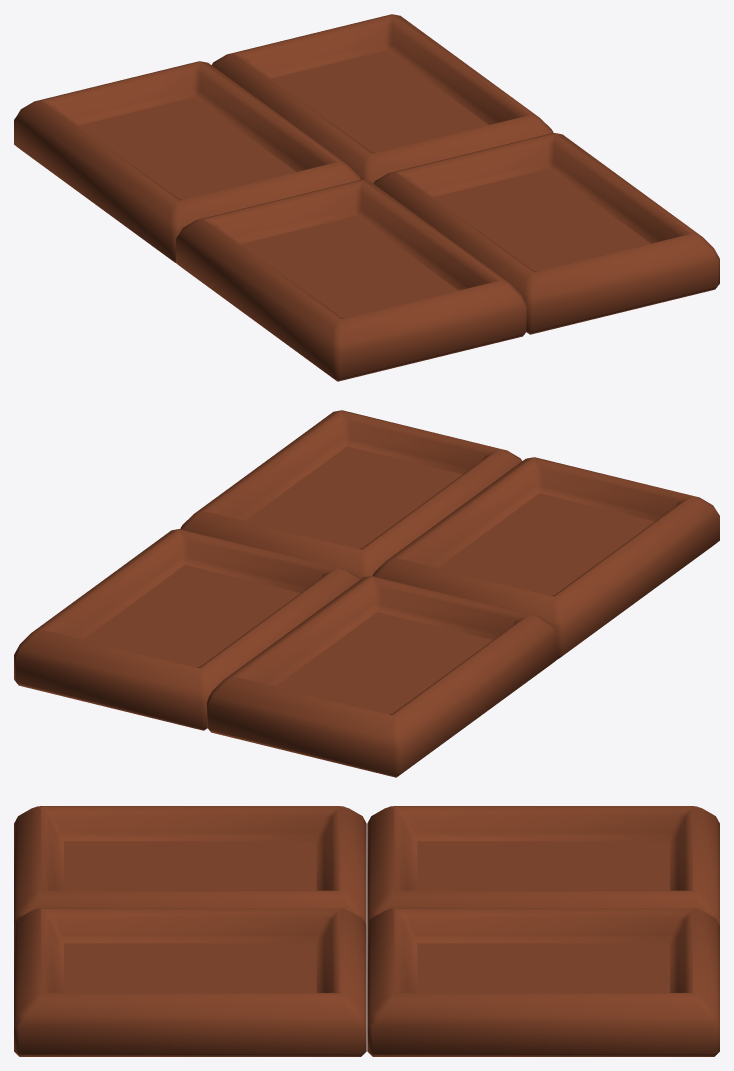
Rendered from chocolate.fbx.
3 views of the same model, one above another, from view 1: azimuth 30°, elevation 25°; view 2: azimuth 150°, elevation 25°; view 3: azimuth 270°, elevation 25° (orthographic). The views are drawn at different scales.
Parts seen in each view (by area): view 1: chocolate; view 2: chocolate; view 3: chocolate.
Part boxes in pixels (x1,y1,x2,y2): chocolate: (14, 14, 719, 381); chocolate: (14, 410, 719, 777); chocolate: (14, 806, 719, 1056).
Size of the model in its own units: 6.73 by 0.8592 by 9.75.
